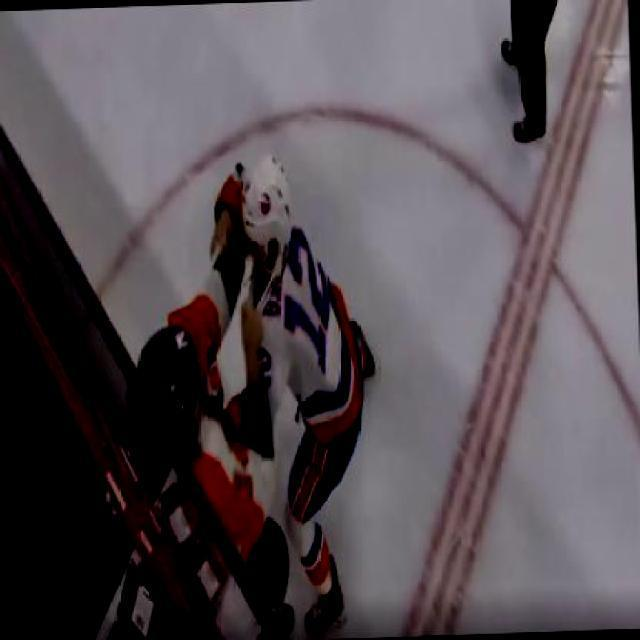fight: (130, 144, 381, 538)
